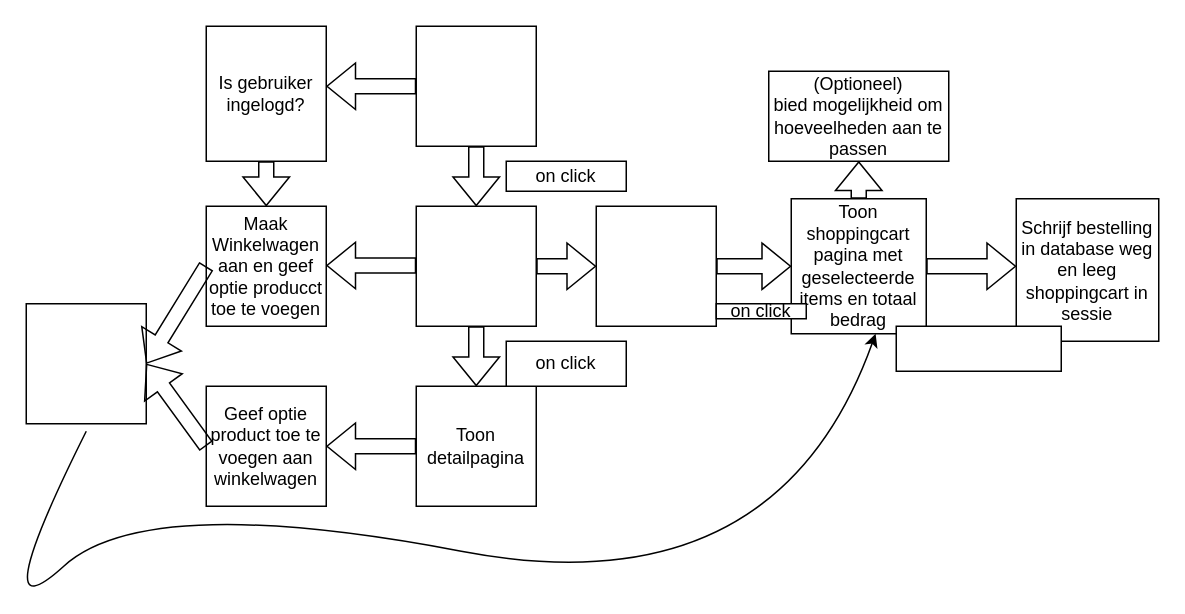
The diagram is 1185 pixels wide and 614 high, and some of its shapes have lost their labels. Here are the shapes that lost their labels. From the top down, the box of each, then its label:
(415, 25, 536, 146): Webshop tonen in Menu
(415, 205, 536, 326): Toon beschikbare producten in database
(595, 205, 716, 326): Toon shopping cart in menu
(25, 302, 146, 424): Bij toevoeging product, bewaar selectie in sessie
(895, 325, 1061, 371): click afrekenen
